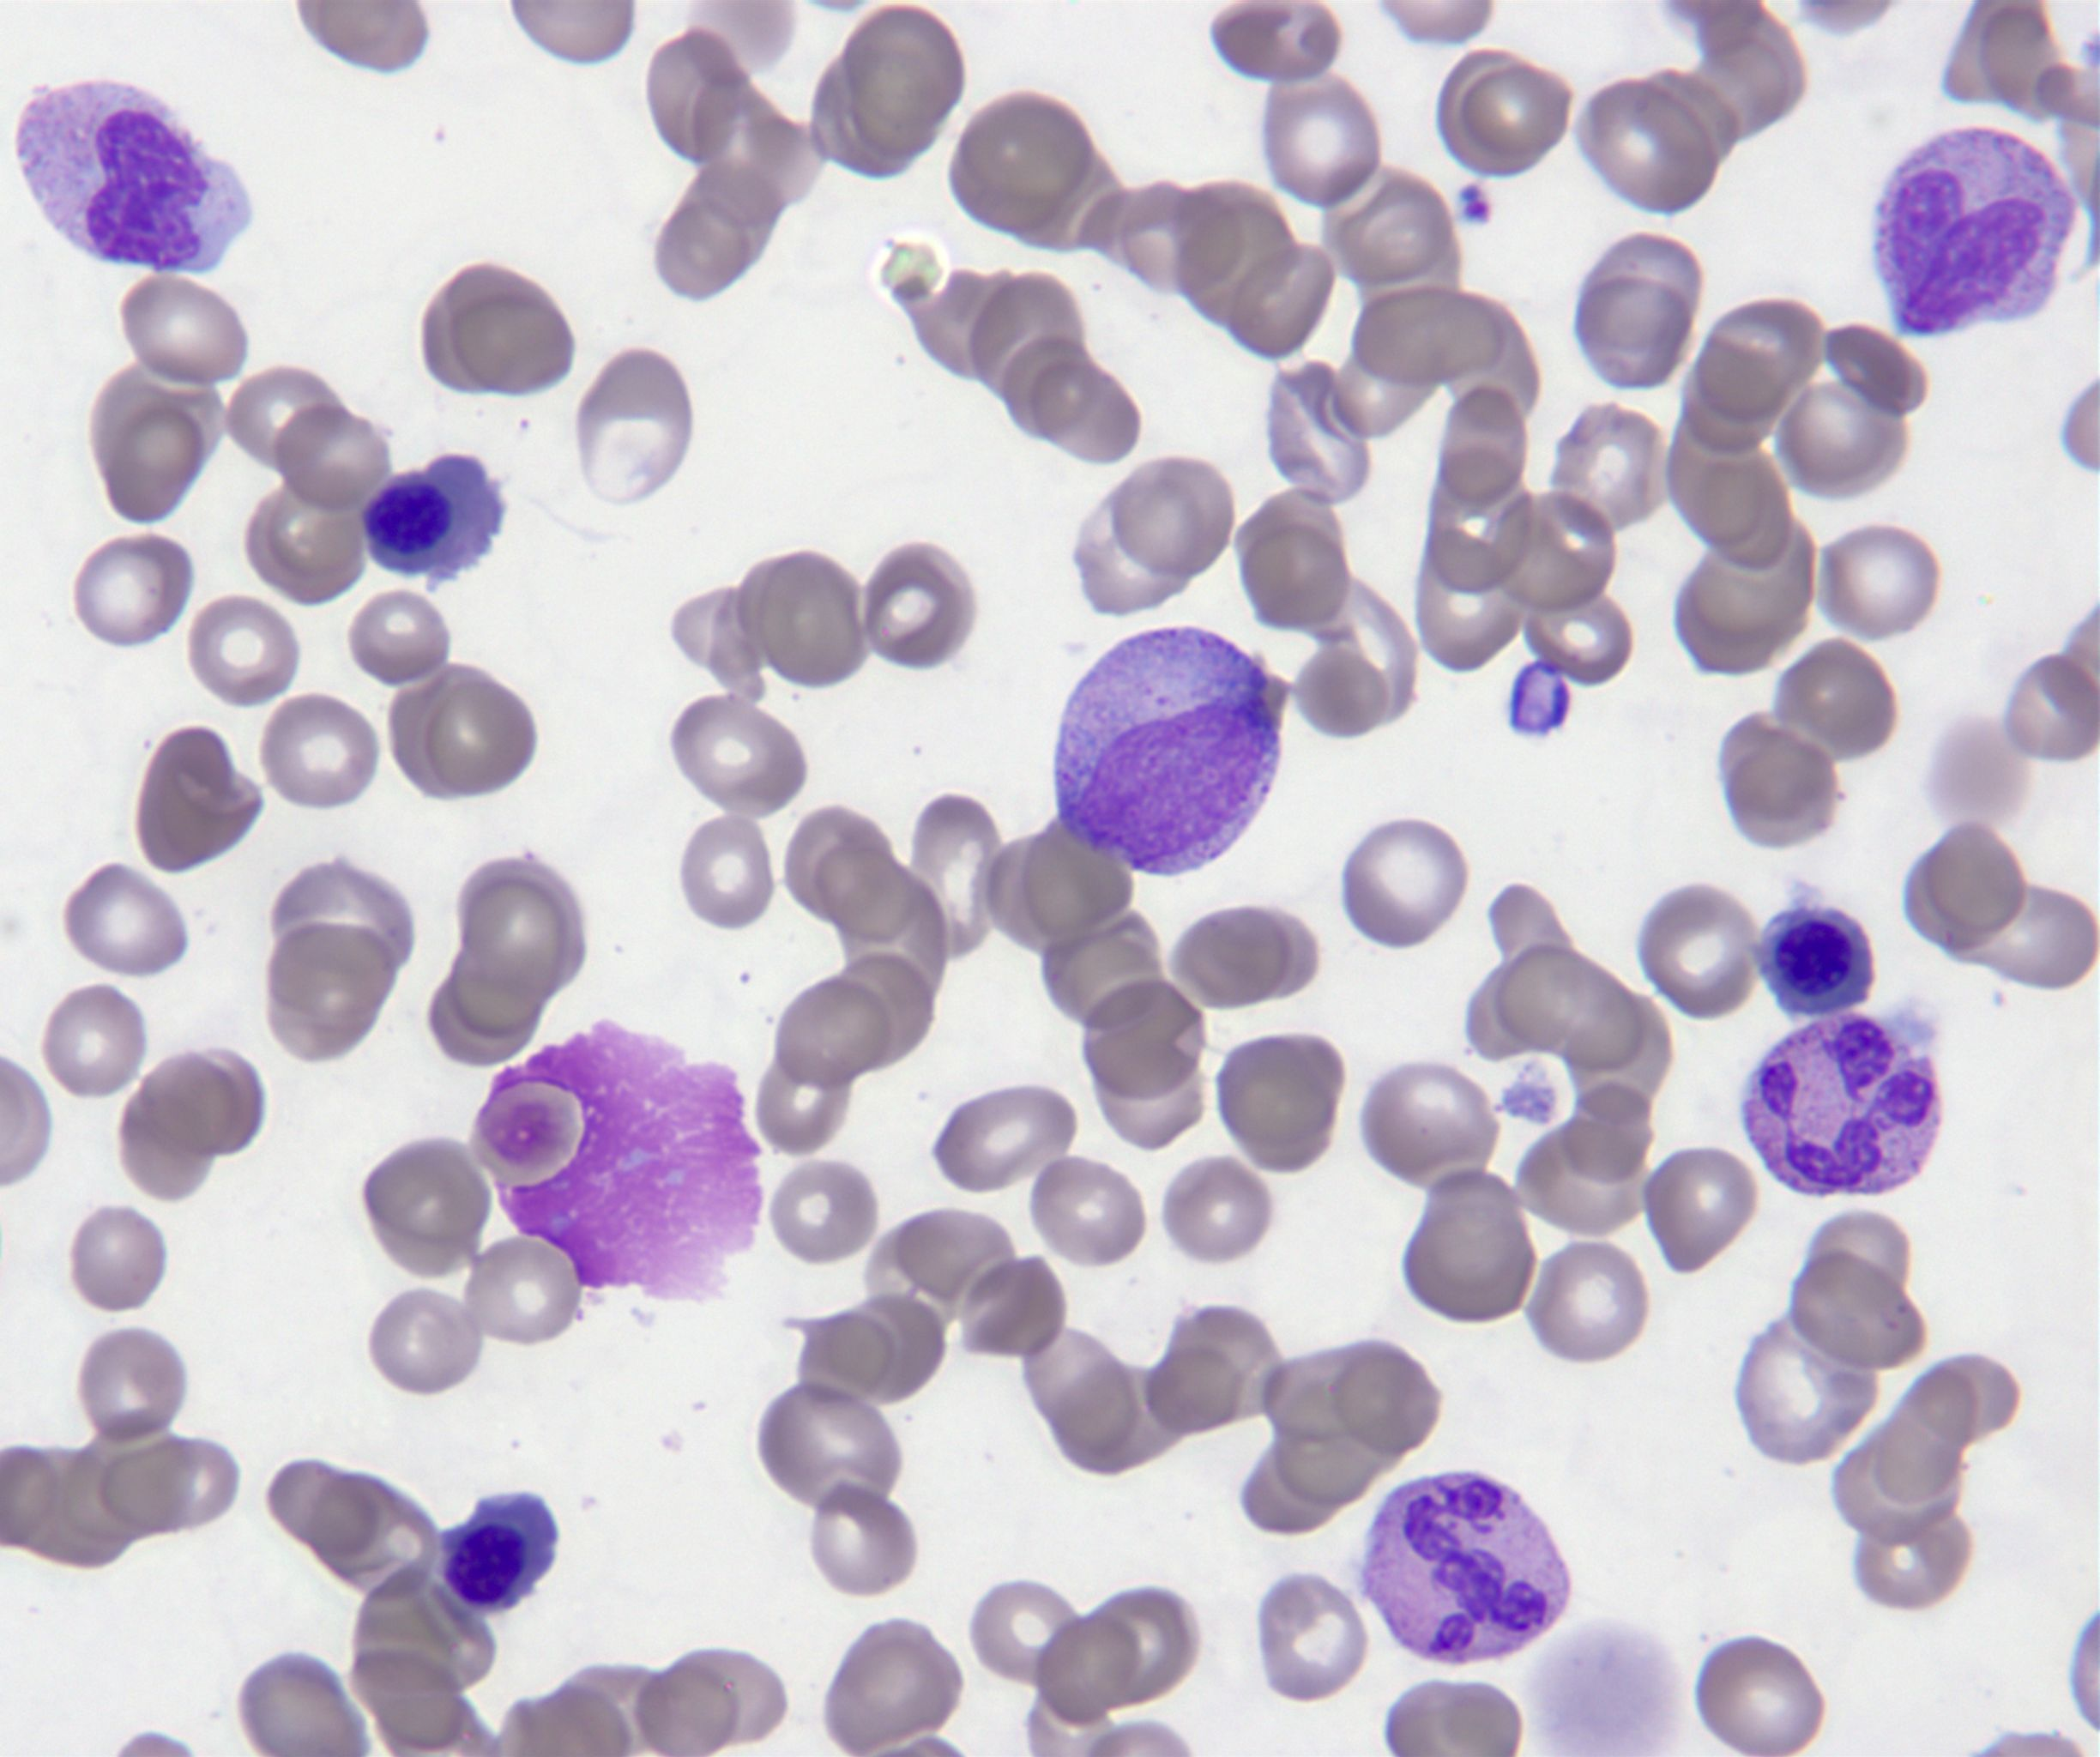24: (361, 454, 502, 590), (431, 1490, 563, 1614), (1753, 900, 1877, 1017)
3: (1057, 628, 1289, 876)
4: (16, 79, 249, 277)
5: (1875, 129, 2077, 333)
6: (1362, 1473, 1570, 1665), (1746, 1005, 1943, 1204)
x: (480, 1019, 764, 1310)
